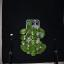leaf: (20, 44, 28, 52), (38, 32, 46, 39), (19, 27, 28, 33), (31, 49, 38, 56), (32, 27, 38, 35), (28, 46, 34, 53), (29, 40, 36, 46), (20, 35, 28, 40), (28, 18, 32, 28), (38, 48, 45, 53), (38, 43, 46, 47), (20, 40, 28, 44), (38, 27, 41, 32), (27, 23, 29, 30)
